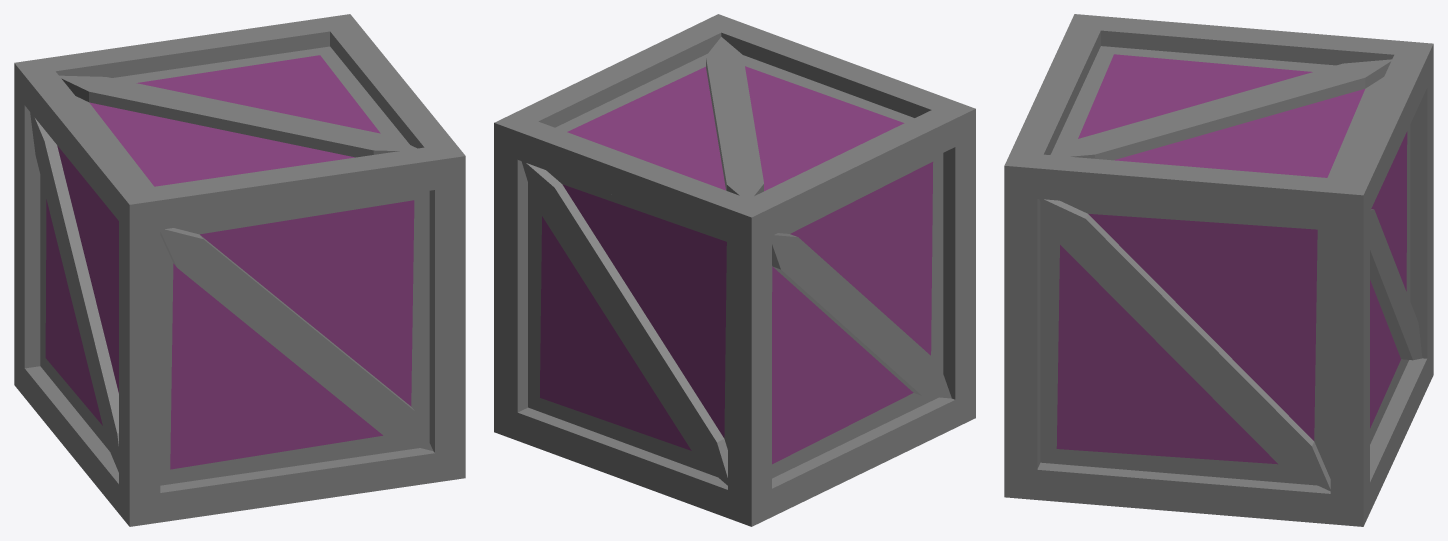
The model's file is crate.fbx.
3 renders of one model, left to right at view 1: azimuth 30°, elevation 25°; view 2: azimuth 150°, elevation 25°; view 3: azimuth 270°, elevation 25°, orthographic. The views are drawn at different scales.
Visible parts, largest first — view 1: Cube.097; view 2: Cube.097; view 3: Cube.097.
Boxes of the visible parts, left/top/right/bottom form: Cube.097: left=14, top=14, right=465, bottom=526; Cube.097: left=494, top=14, right=975, bottom=526; Cube.097: left=1004, top=14, right=1433, bottom=526.
Bounding box in the file's own units: 117 × 100 × 117.
